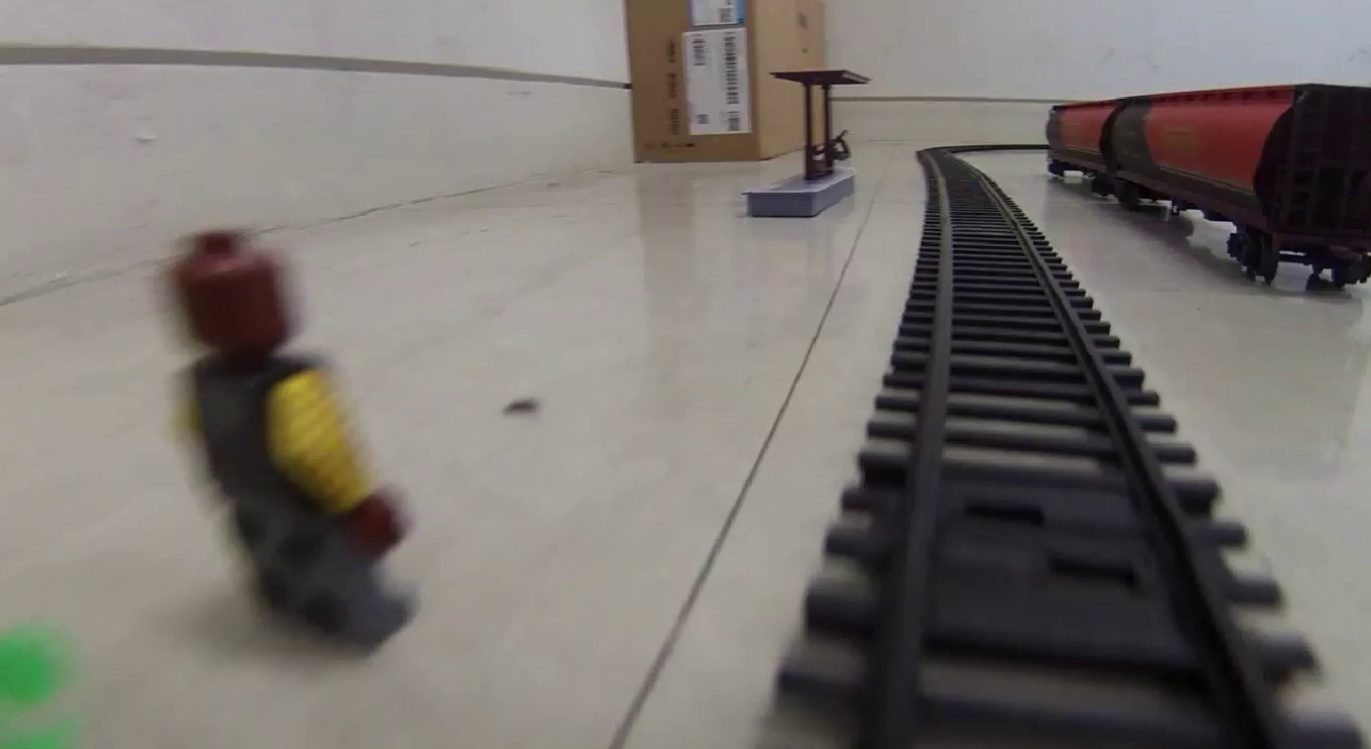people: (165, 230, 416, 657)
